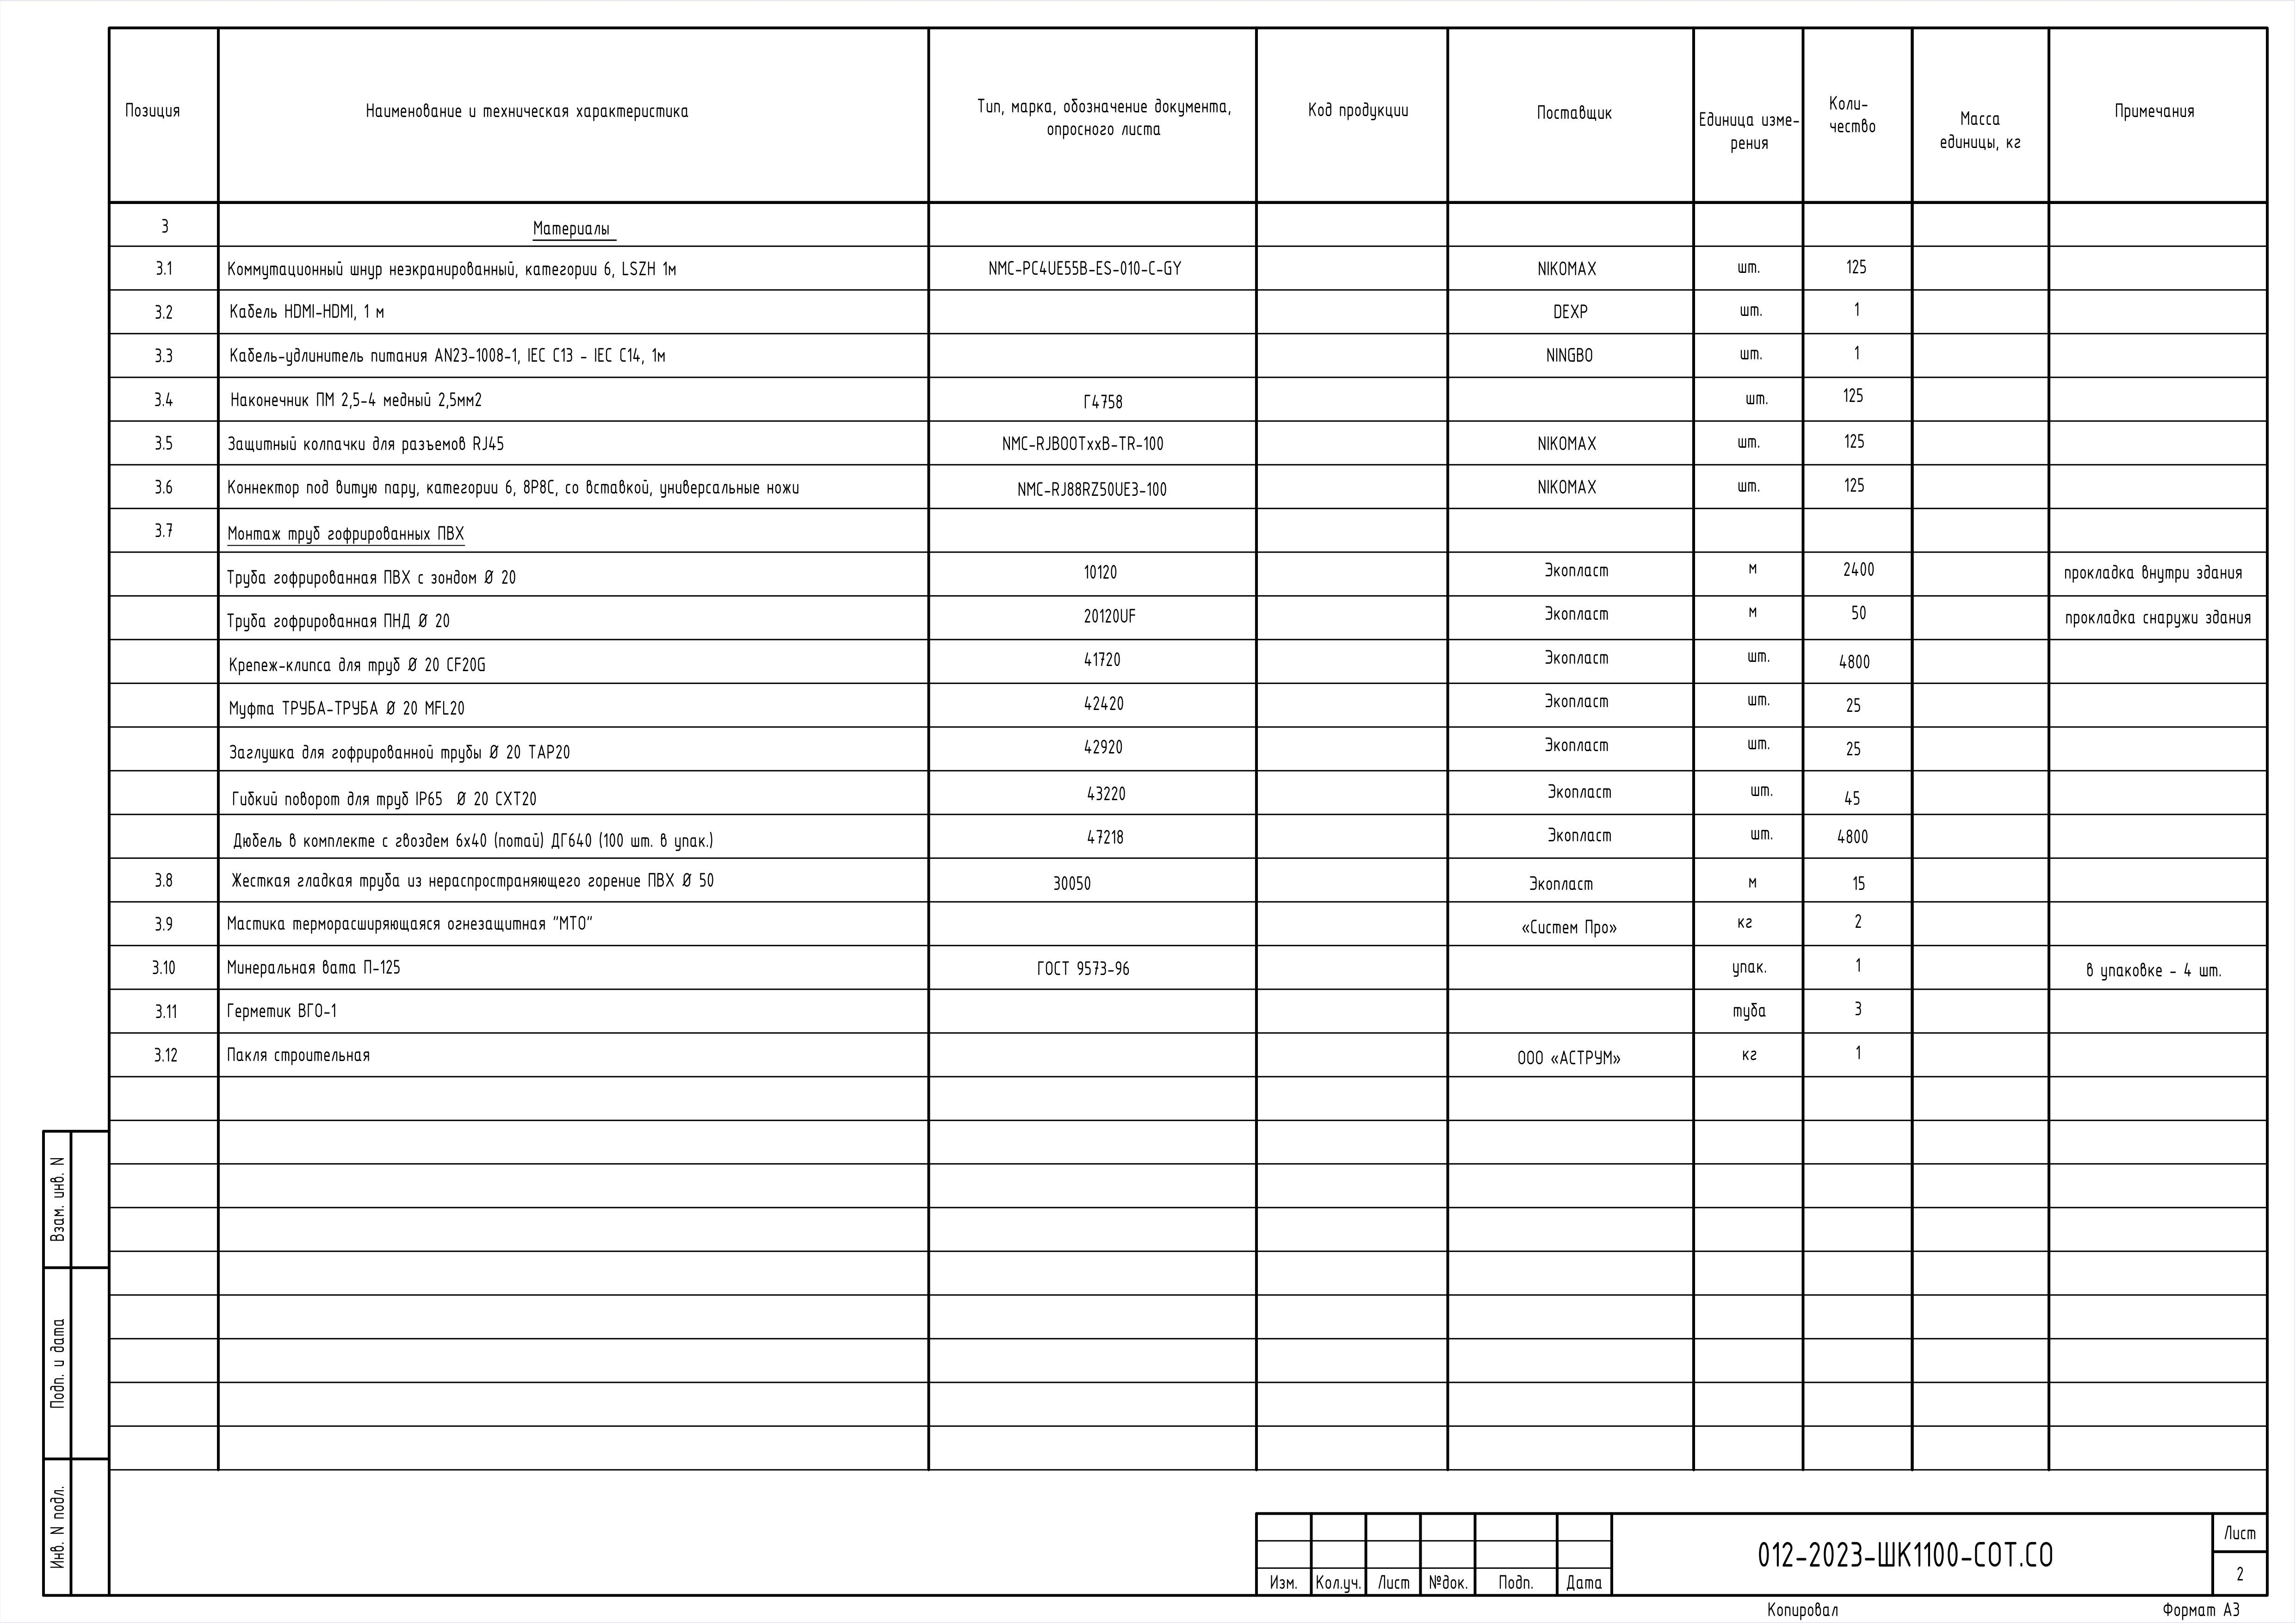Name of costs: (220, 204, 928, 1470)
Note: (929, 202, 1256, 1468)
Quantity: (1804, 202, 1913, 1470)
Unit of measurement: (1695, 204, 1802, 1468)
